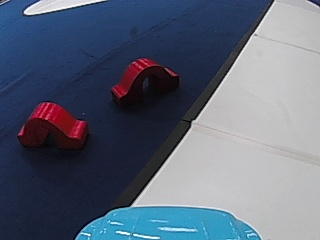bridge: (14, 98, 91, 151), (107, 53, 181, 108)
